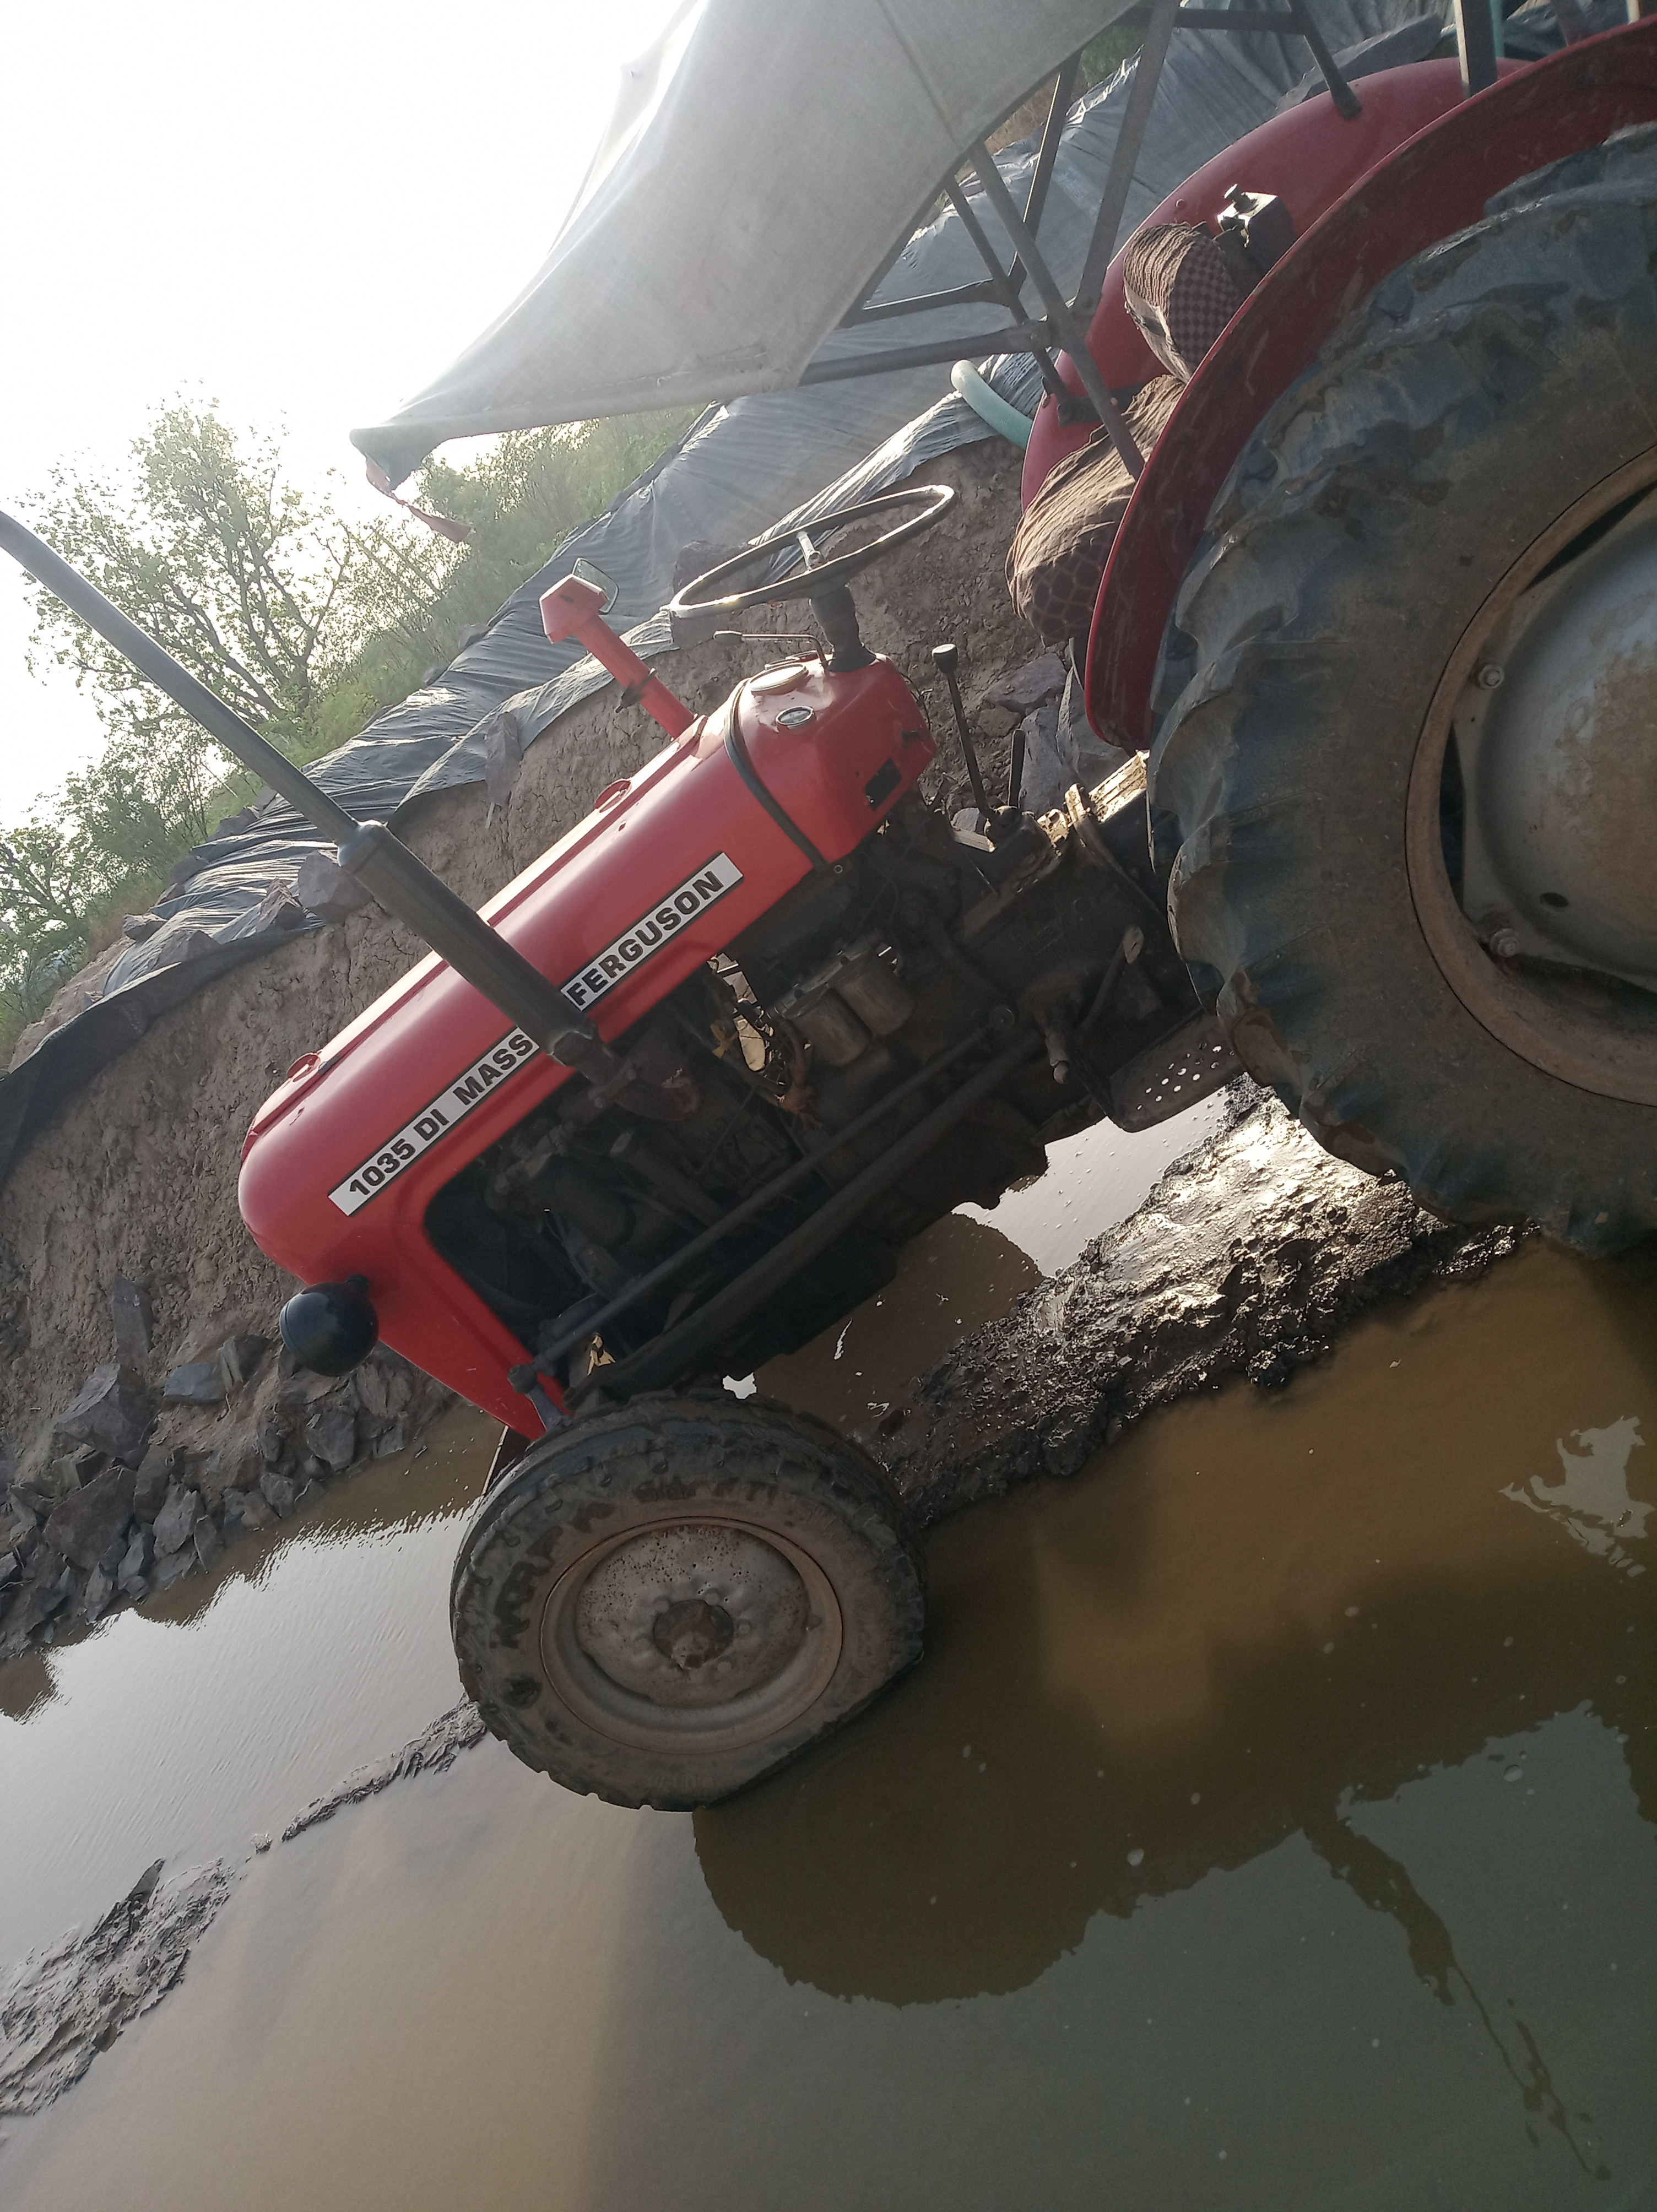tractor: (0, 0, 1657, 1817)
